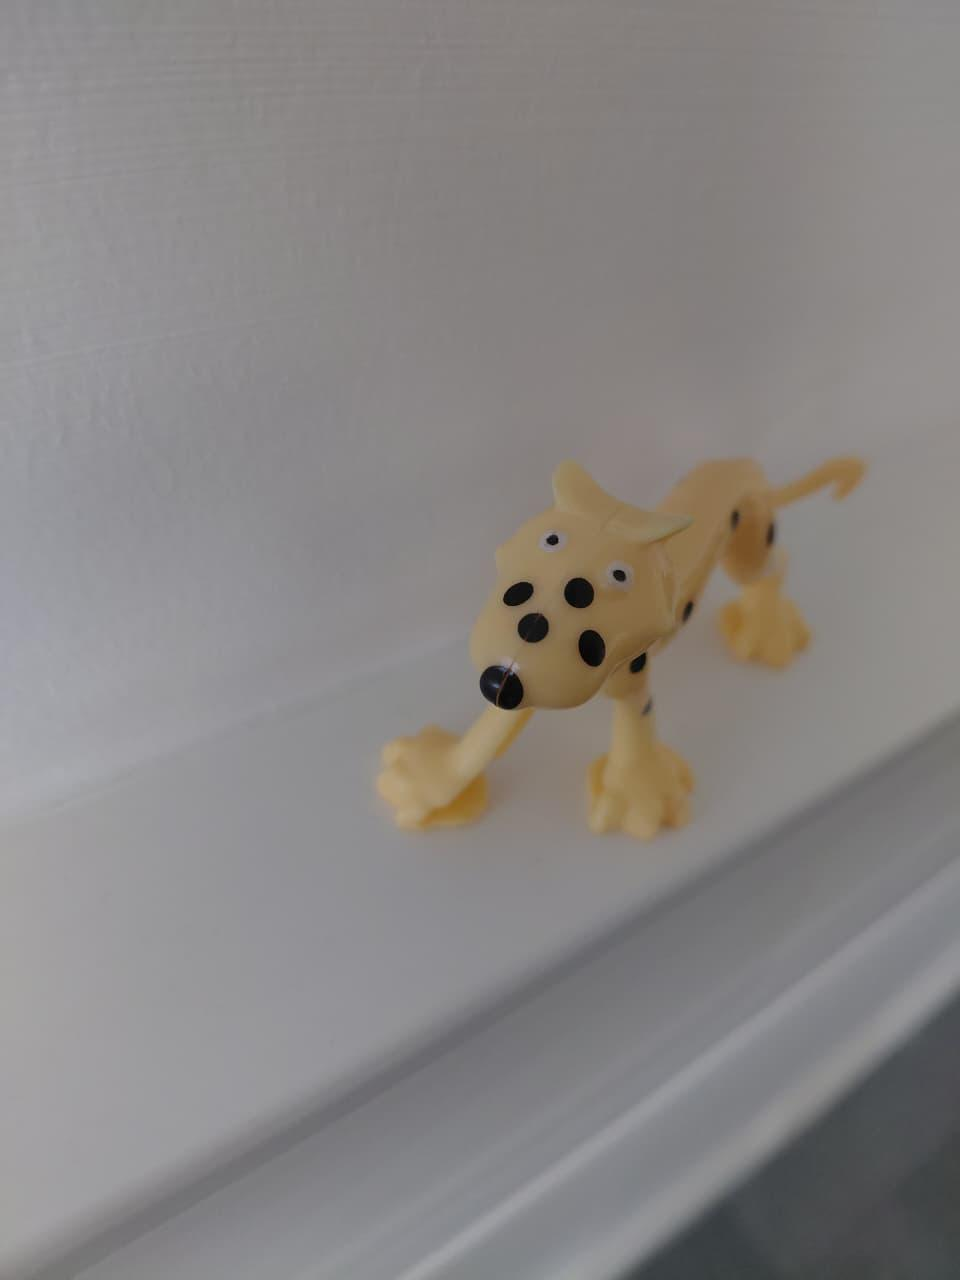cheetah: (330, 405, 938, 877)
